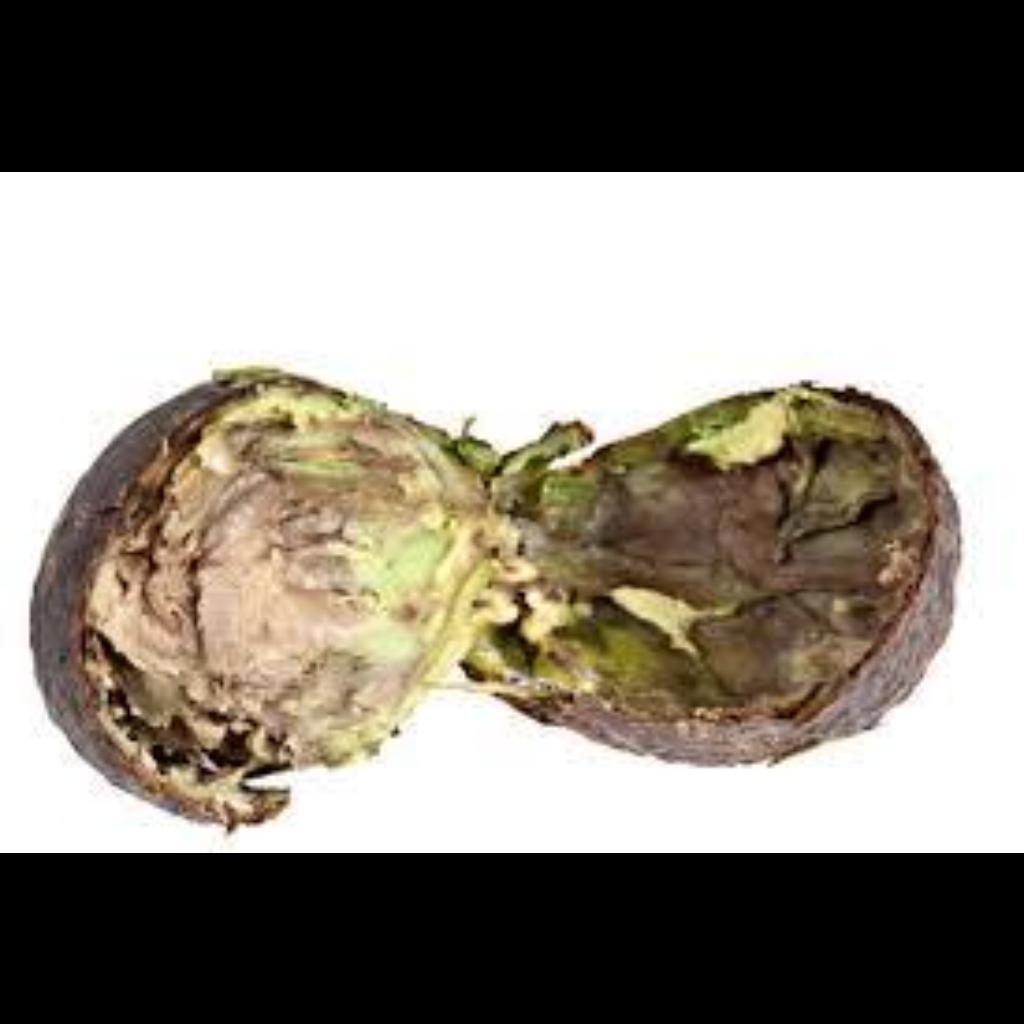antracnosis_fruto: (37, 367, 454, 821), (520, 402, 963, 736)
